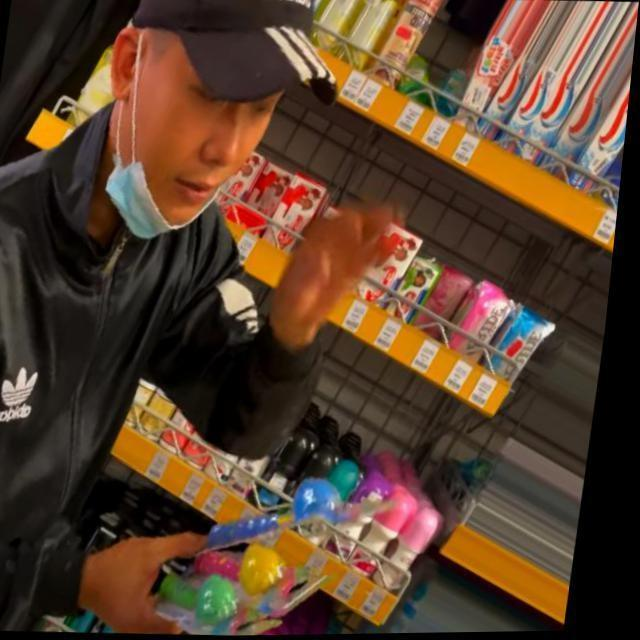hairnet: (111, 72, 248, 242)
